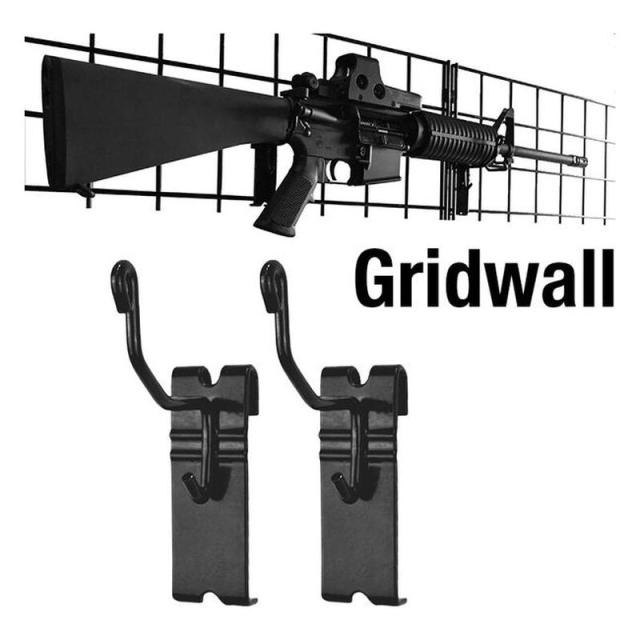Rifle: (42, 54, 587, 233)
